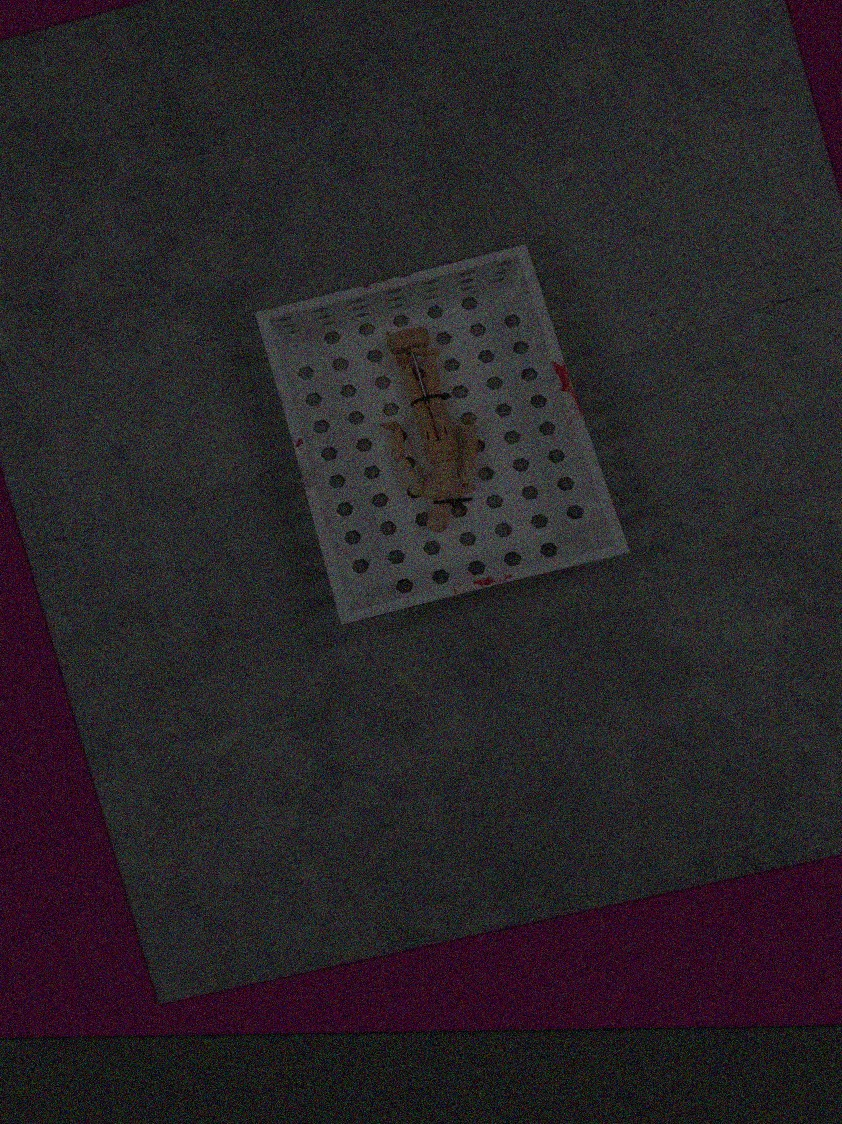basket: (249, 235, 640, 635)
mannequin: (375, 320, 485, 538)
